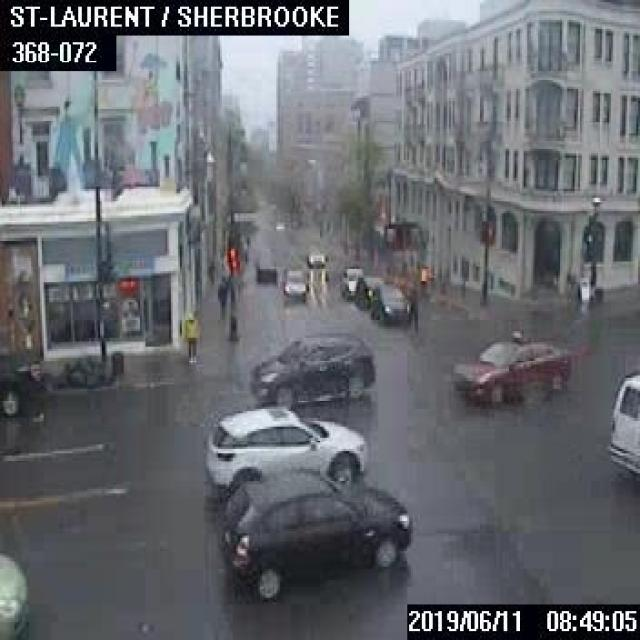pedestrian: (404, 274, 420, 332), (184, 310, 197, 362), (214, 273, 226, 320)
vehicle: (216, 466, 411, 594), (204, 403, 364, 498), (249, 329, 373, 406), (453, 334, 567, 404), (606, 371, 638, 473), (0, 353, 42, 418), (0, 549, 29, 638), (370, 282, 405, 322), (354, 274, 384, 307), (339, 265, 363, 295), (281, 267, 304, 298), (254, 258, 276, 280), (306, 248, 324, 266)
